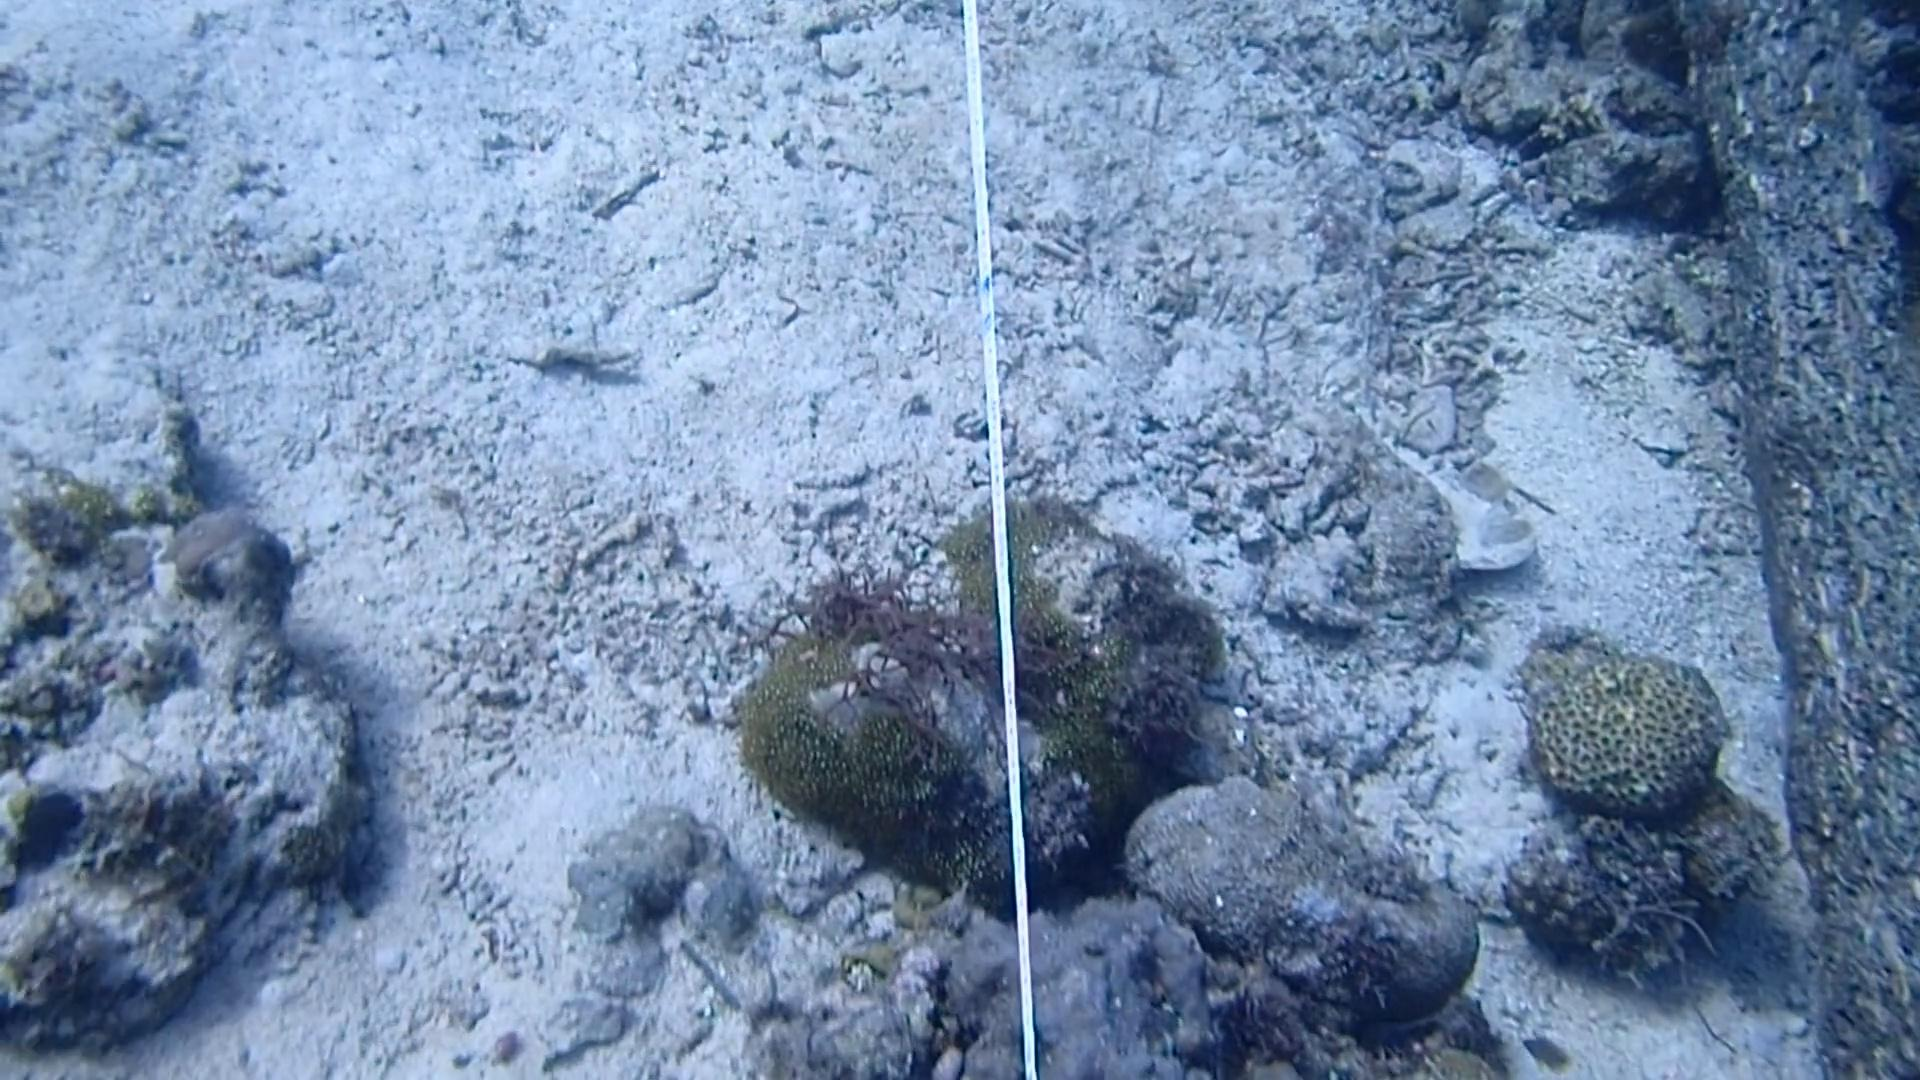UI: (1515, 1027, 1577, 1072)
